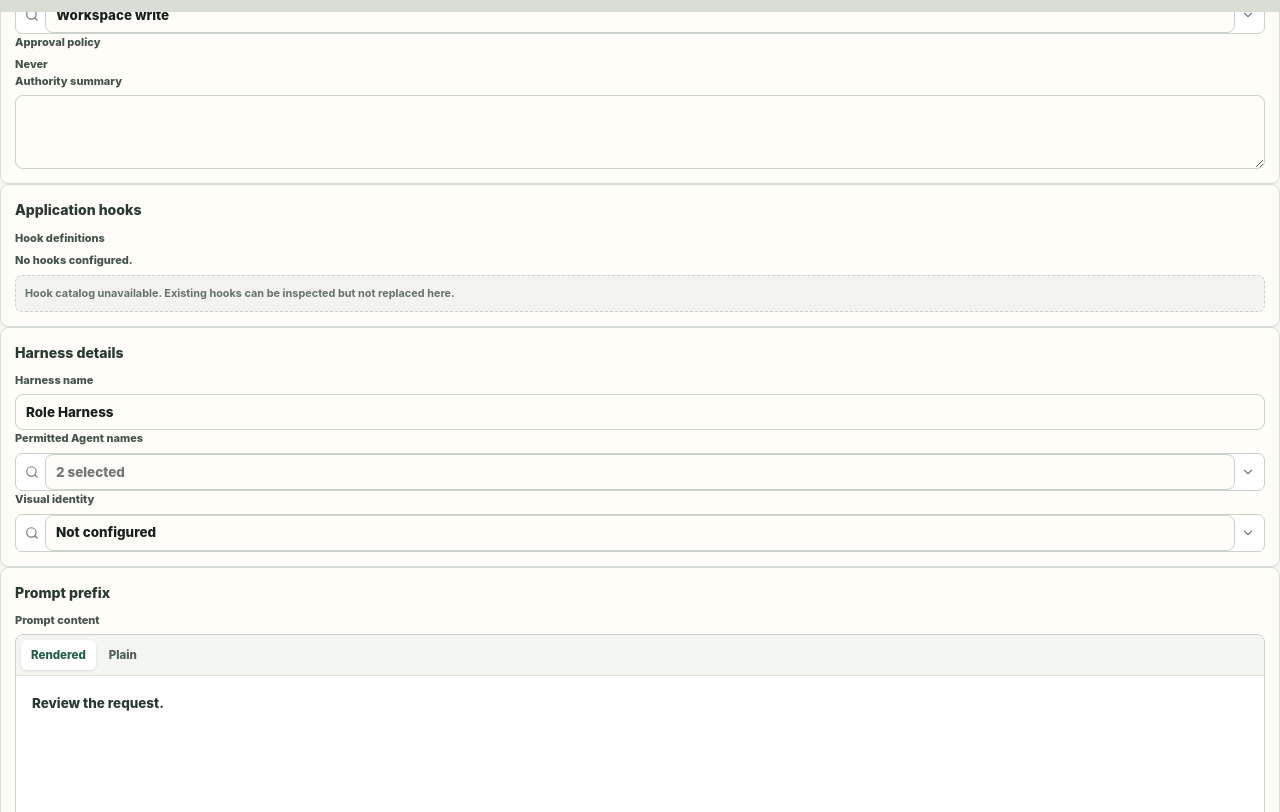
Test: HarnessDefinitionEditor › edits the same detached definition contract in Session and Role surfaces
(page scrolled)
Replace the text in the field named "Harness name" with "Security Harness". click: (640, 412)
box: [15,394,1265,430]
(page scrolled)
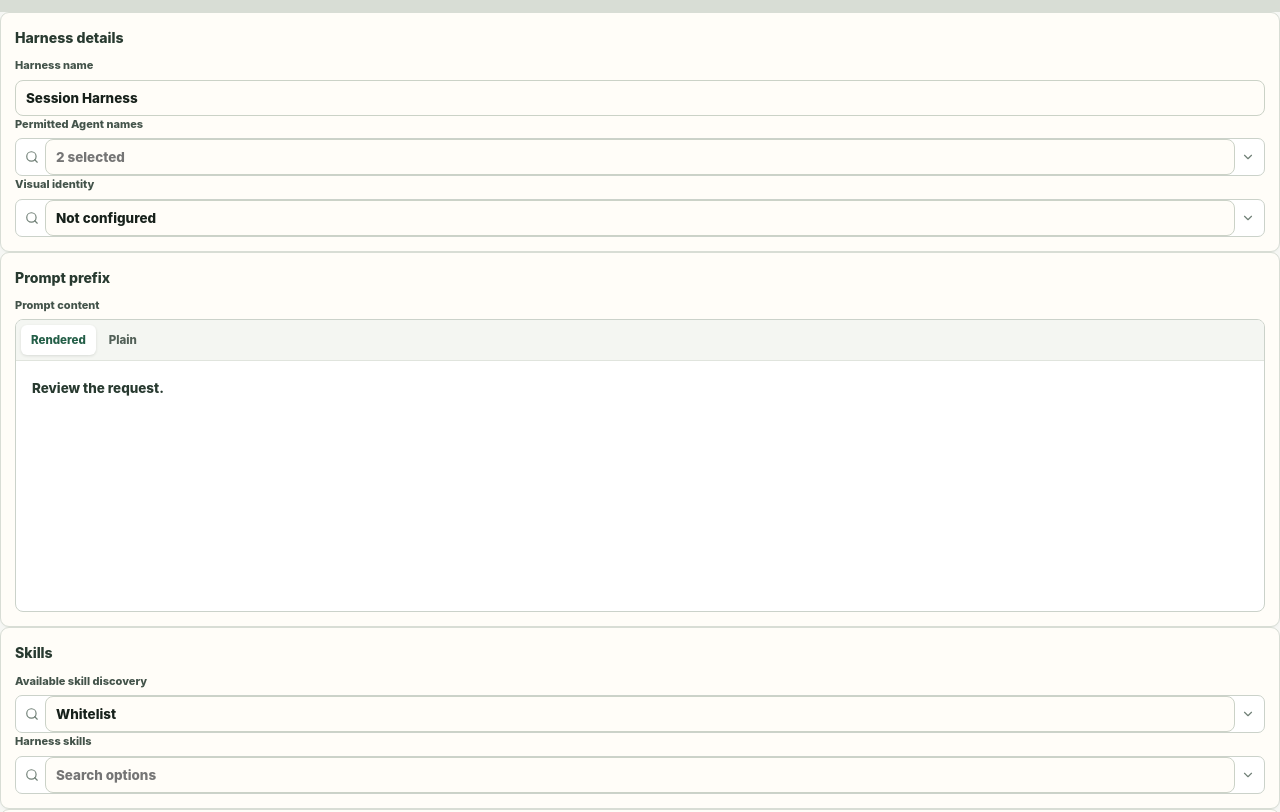
Expected: the field named "Harness name" holds "Session Harness", [15,80,1265,116]
